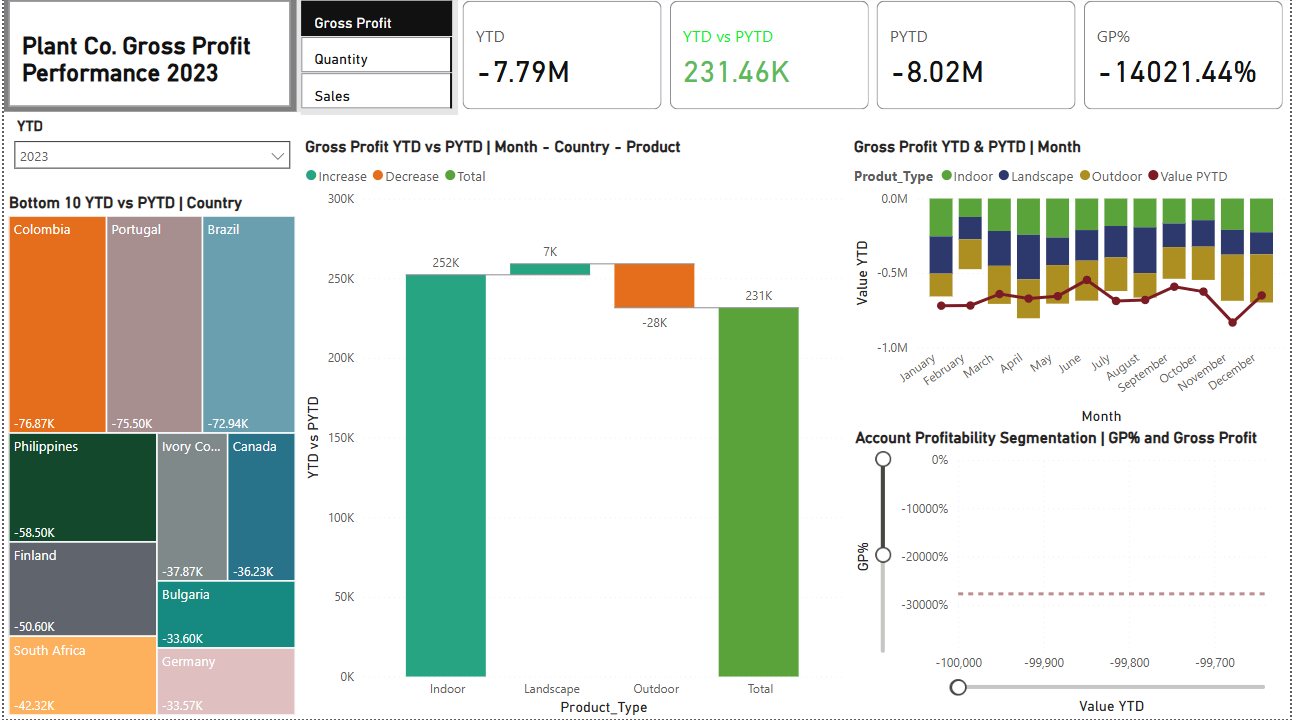

The page's visual inventory and layout, read from the dashboard file:
{"tool":"powerbi","page":{"name":"Page 1","canvas":[1280,720],"ordinal":0},"visuals":[{"type":"cardVisual","fields":{"Data":["_Measures.S_YTD","_Measures.YTD vs PYTD","_Measures.S_PYTD","_Measures.GP%"]},"box":[451.5,0,828.8,118],"z":0},{"type":"advancedSlicerVisual","fields":{"Values":["Slc_Values.Values"]},"box":[290.9,0,160.5,118],"z":1},{"type":"slicer","fields":{"Values":["Dim_Date.Date.Variation.Date Hierarchy.Year"]},"box":[0,115.3,295,81],"z":3},{"type":"treemap","title":"Bottom 10 YTD vs PYTD | Country","fields":{"Group":["Dim_Account.country"],"Values":["_Measures.YTD vs PYTD"]},"box":[0,196.2,295,524.2],"z":4},{"type":"waterfallChart","fields":{"Y":["_Measures.YTD vs PYTD"],"Category":["Dim_Date.Date.Variation.Date Hierarchy.Month","Dim_Account.country","Dim_Product.Produt_Type","Dim_Product.Product_Name"]},"box":[295,140,546.1,580.4],"z":5},{"type":"lineStackedColumnComboChart","fields":{"Y":["_Measures.S_YTD"],"Y2":["_Measures.S_PYTD"],"Category":["Dim_Date.Date.Variation.Date Hierarchy.Quarter","Dim_Date.Date.Variation.Date Hierarchy.Month"],"Series":["Dim_Product.Produt_Type"]},"box":[841.2,140,439.1,290.9],"z":6},{"type":"scatterChart","fields":{"Y":["_Measures.GP%"],"X":["_Measures.S_YTD"],"Category":["Dim_Account.Account"]},"box":[842,431,438,289],"z":7},{"type":"cardVisual","fields":{"Data":["_Measures._Report title"]},"box":[0,0,290.9,115.3],"z":8}]}

Visuals, with their boxes in screenshot pixels (x1, y1, x2, y2), scaled from the page's 1280x720 canvas onto the 1296x720 screenshot:
cardVisual - _Measures.S_YTD x _Measures.YTD vs PYTD: x1=457, y1=0, x2=1295, y2=118
advancedSlicerVisual - Slc_Values.Values: x1=295, y1=0, x2=457, y2=118
slicer - Dim_Date.Date.Variation.Date Hierarchy.Year: x1=0, y1=115, x2=299, y2=196
"Bottom 10 YTD vs PYTD | Country" treemap: x1=0, y1=196, x2=299, y2=719
waterfallChart - _Measures.YTD vs PYTD x Dim_Date.Date.Variation.Date Hierarchy.Month: x1=299, y1=140, x2=852, y2=719
lineStackedColumnComboChart - _Measures.S_YTD x _Measures.S_PYTD: x1=852, y1=140, x2=1295, y2=431
scatterChart - _Measures.GP% x _Measures.S_YTD: x1=853, y1=431, x2=1295, y2=719
cardVisual - _Measures._Report title: x1=0, y1=0, x2=295, y2=115
